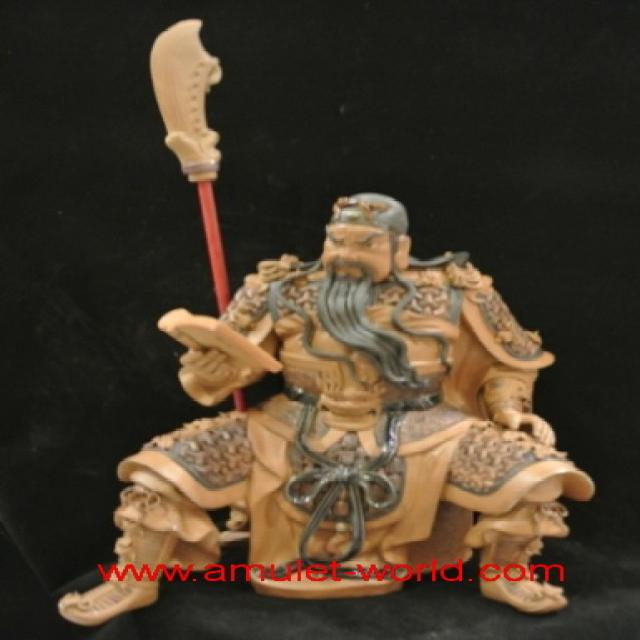Guan Yu: (155, 191, 550, 547)
